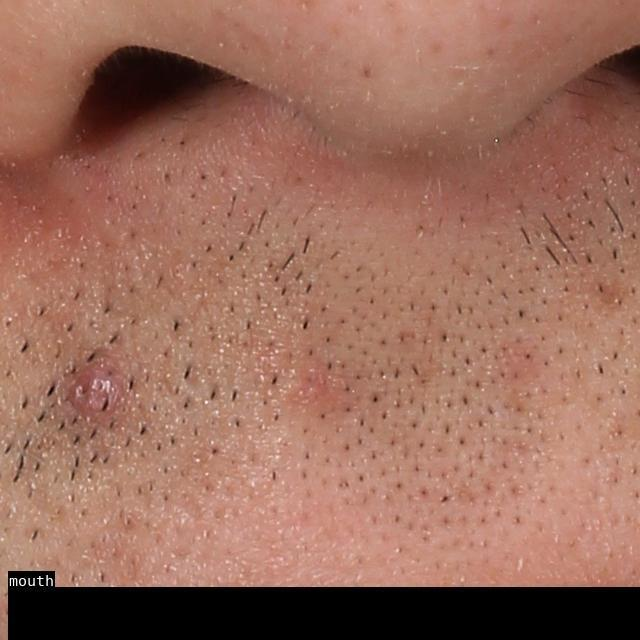papule: (59, 361, 122, 421)
